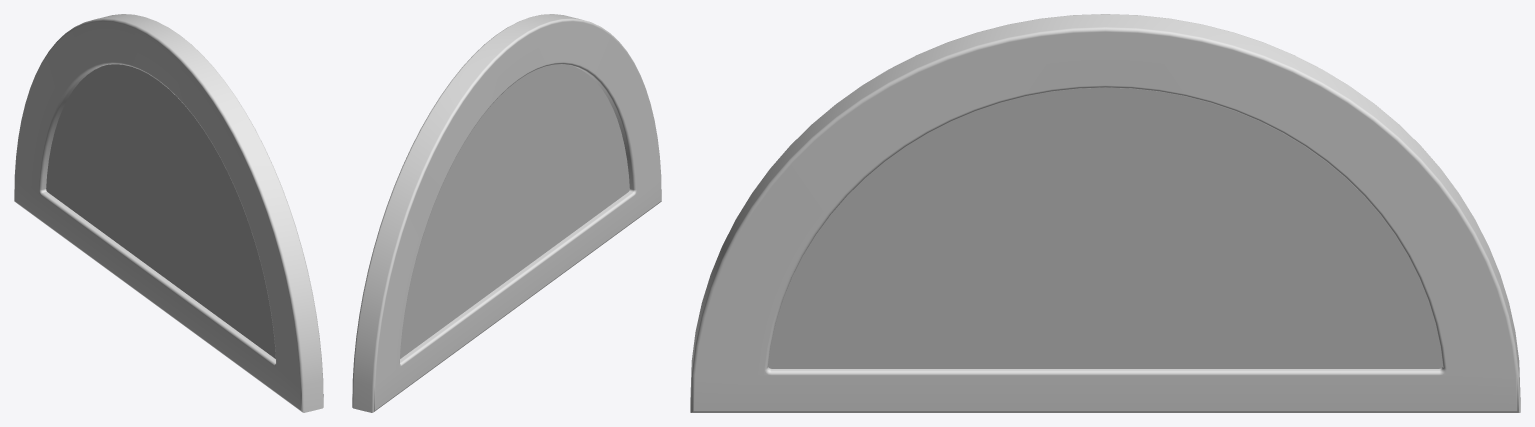
Rendered from SM_Arc_SasDoor_A_V3.fbx.
The picture shows the model from 3 angles, left to right: view 1: azimuth 30°, elevation 25°; view 2: azimuth 150°, elevation 25°; view 3: azimuth 270°, elevation 25°; orthographic projection. The views are drawn at different scales.
Visible parts, largest first — view 1: SM_Arc_SasDoor_A_V3; view 2: SM_Arc_SasDoor_A_V3; view 3: SM_Arc_SasDoor_A_V3.
Boxes of the visible parts, x1,y1,x2,y2 form: SM_Arc_SasDoor_A_V3: [14, 14, 323, 412]; SM_Arc_SasDoor_A_V3: [352, 14, 661, 412]; SM_Arc_SasDoor_A_V3: [690, 14, 1520, 412].
Bounding box in the file's own units: 43.4 × 963 × 494.
2 materials, 1 textured.
